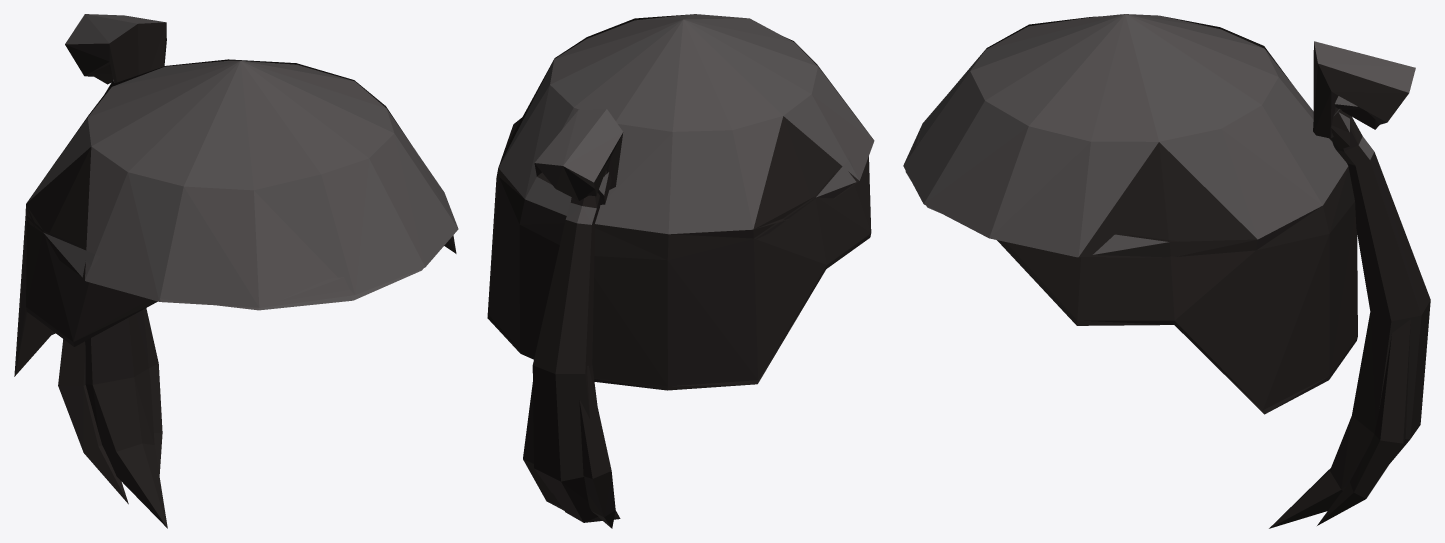
File: hair_ponytail_high_01.glb
3 renders of one model, left to right at view 1: azimuth 30°, elevation 25°; view 2: azimuth 150°, elevation 25°; view 3: azimuth 270°, elevation 25°, orthographic. The views are drawn at different scales.
Parts seen in each view (by area): view 1: hair_ponytail_high_01; view 2: hair_ponytail_high_01; view 3: hair_ponytail_high_01.
Part boxes in pixels (<box>): hair_ponytail_high_01: <box>14,14,458,528</box>; hair_ponytail_high_01: <box>487,14,874,528</box>; hair_ponytail_high_01: <box>903,14,1430,528</box>.
Bounding box in the file's own units: 0.2627 × 0.3415 × 0.317.
Materials: 1 (1 with a texture image).
